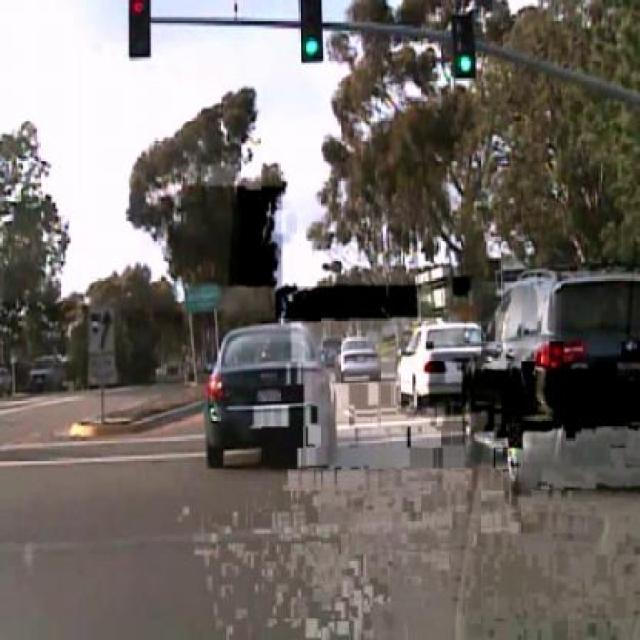keepRight: (86, 308, 115, 355)
